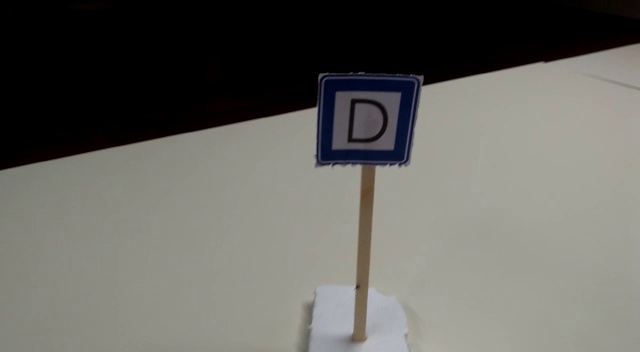durak: (313, 71, 419, 168)
